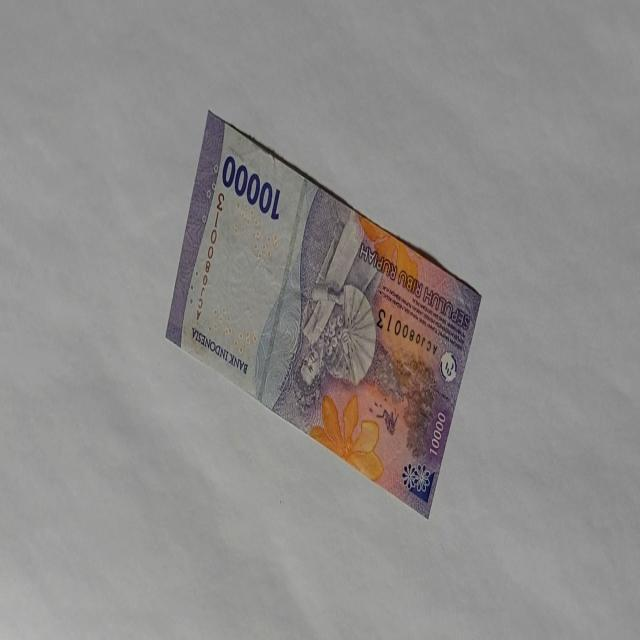sepuluh ribu rupiah: (165, 108, 482, 520), (220, 152, 282, 222), (189, 324, 249, 376)
